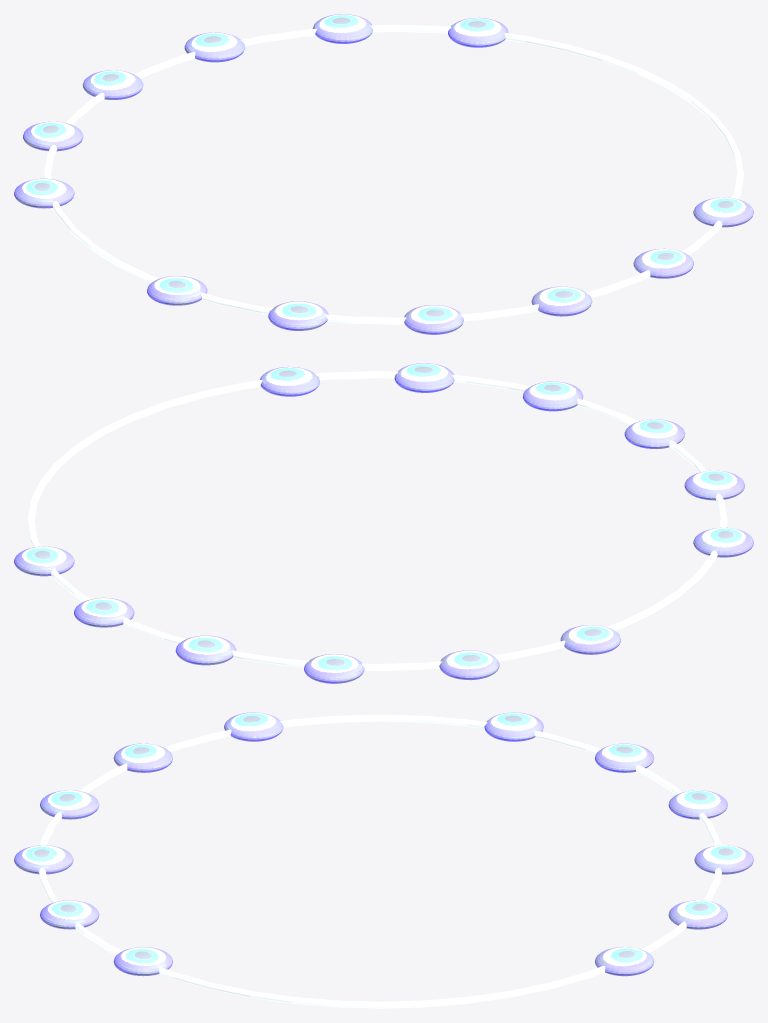
Rendered from eyeNecklace.glb.
3 renders of one model, top to bottom at view 1: azimuth 30°, elevation 25°; view 2: azimuth 150°, elevation 25°; view 3: azimuth 270°, elevation 25°, orthographic. The views are drawn at different scales.
Parts seen in each view (by area): view 1: Torus, Sphere.006, Sphere.007, Sphere.008, Sphere.011, Sphere.005, Sphere.012, Sphere.001, Sphere.004, Sphere.009, Sphere.003, Sphere.010 (+1 smaller); view 2: Torus, Sphere.003, Sphere.001, Sphere.002, Sphere.009, Sphere.010, Sphere.008, Sphere.004, Sphere.012, Sphere.005, Sphere.007, Sphere.006 (+1 smaller); view 3: Torus, Sphere.005, Sphere.004, Sphere.011, Sphere.012, Sphere.010, Sphere.006, Sphere.007, Sphere.008, Sphere.001, Sphere.009, Sphere.002 (+1 smaller).
Part boxes in pixels (x1,y1,x2,y2): Torus: (44,24,743,324); Sphere.006: (268,301,328,331); Sphere.007: (404,305,463,334); Sphere.008: (531,286,592,316); Sphere.011: (448,17,508,47); Sphere.005: (147,276,207,305); Sphere.012: (312,14,372,43); Sphere.001: (184,32,244,62); Sphere.004: (14,178,74,208); Sphere.009: (633,248,693,278); Sphere.003: (23,121,83,151); Sphere.010: (693,197,753,227); Torus: (27,371,727,670); Sphere.003: (439,650,499,680); Sphere.001: (175,635,236,665); Sphere.002: (304,654,364,683); Sphere.009: (394,363,454,392); Sphere.010: (260,366,319,396); Sphere.008: (523,381,583,411); Sphere.004: (560,625,620,654); Sphere.012: (74,597,134,627); Sphere.005: (693,527,753,557); Sphere.007: (624,419,685,449); Sphere.006: (684,470,744,500); Torus: (39,714,721,1008); Sphere.005: (224,712,283,741); Sphere.004: (484,712,543,741); Sphere.011: (595,947,654,976); Sphere.012: (668,900,727,929); Sphere.010: (113,947,172,976); Sphere.006: (113,743,172,772); Sphere.007: (40,790,99,819); Sphere.008: (14,845,73,874); Sphere.001: (694,845,753,874); Sphere.009: (40,900,99,929); Sphere.002: (668,790,727,819).
Size of the model in its own units: 2.03 by 0.0497 by 2.18.
